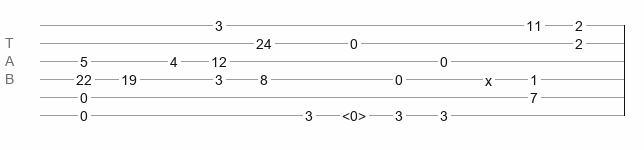0: (80, 108, 88, 118), (80, 90, 88, 100), (350, 36, 358, 46), (395, 72, 403, 82), (440, 54, 448, 64)
1: (530, 72, 538, 82)
11: (526, 18, 542, 28)
12: (211, 54, 227, 64)
19: (121, 72, 137, 82)
2: (575, 36, 583, 46), (575, 18, 583, 28)
22: (76, 72, 92, 82)
24: (256, 36, 272, 46)
3: (215, 18, 223, 28), (215, 72, 223, 82), (305, 108, 313, 118), (395, 108, 403, 118), (440, 108, 448, 118)
4: (170, 54, 178, 64)
5: (80, 54, 88, 64)
7: (530, 90, 538, 100)
8: (260, 72, 268, 82)
harmonic: (342, 108, 366, 118)
x: (485, 73, 492, 81)
